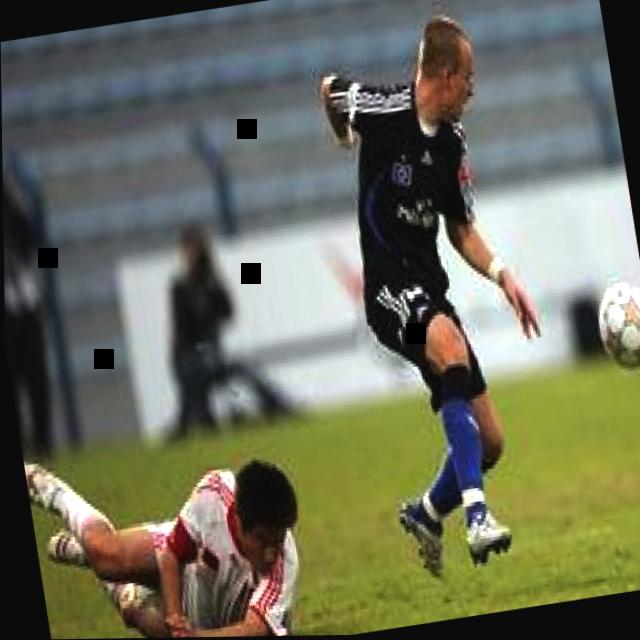Fall-Detected: (15, 377, 339, 640)
